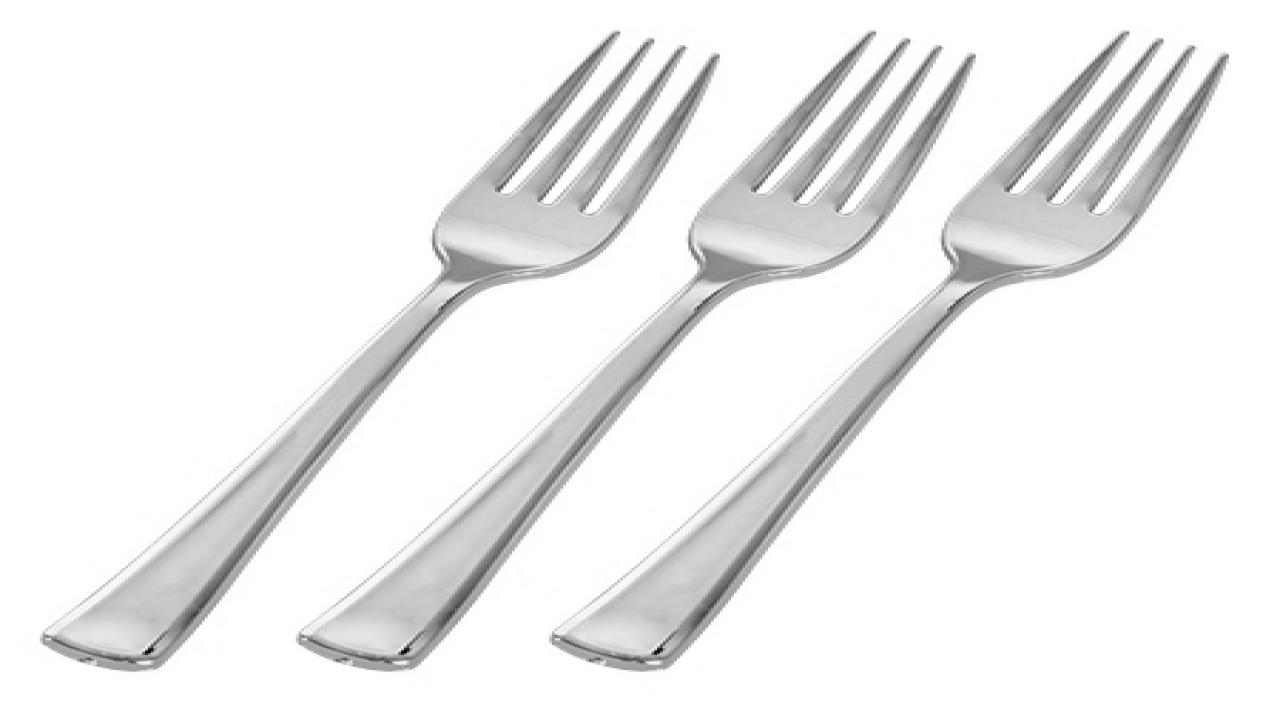fork: (546, 28, 1226, 672), (296, 28, 976, 672), (40, 28, 720, 670)
